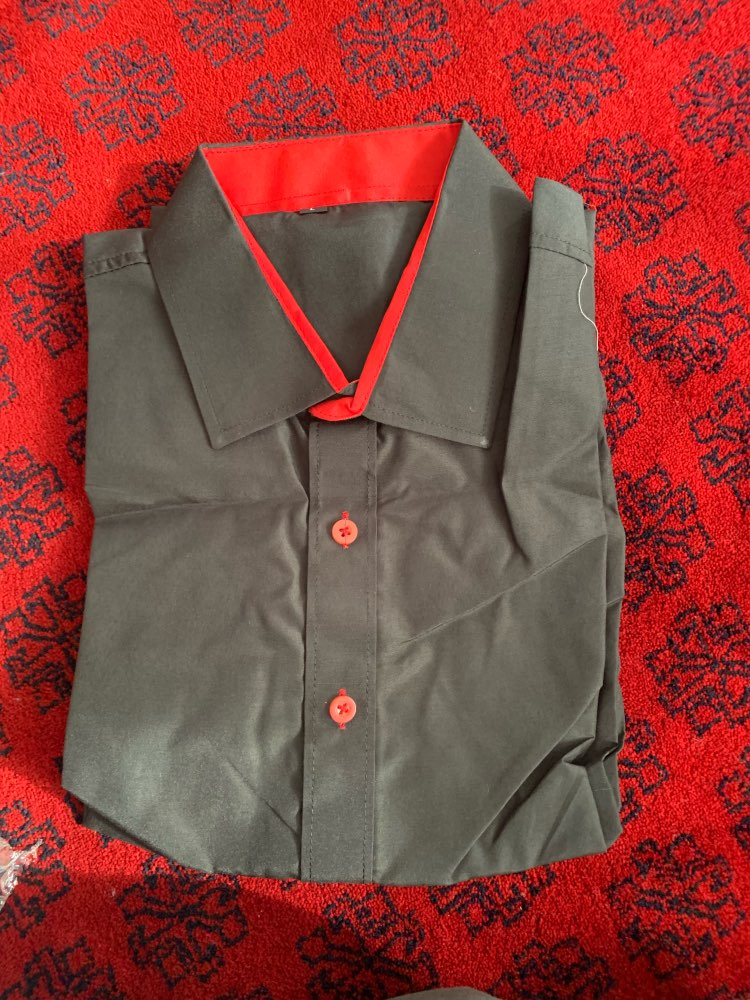shirts: (75, 120, 631, 893)
